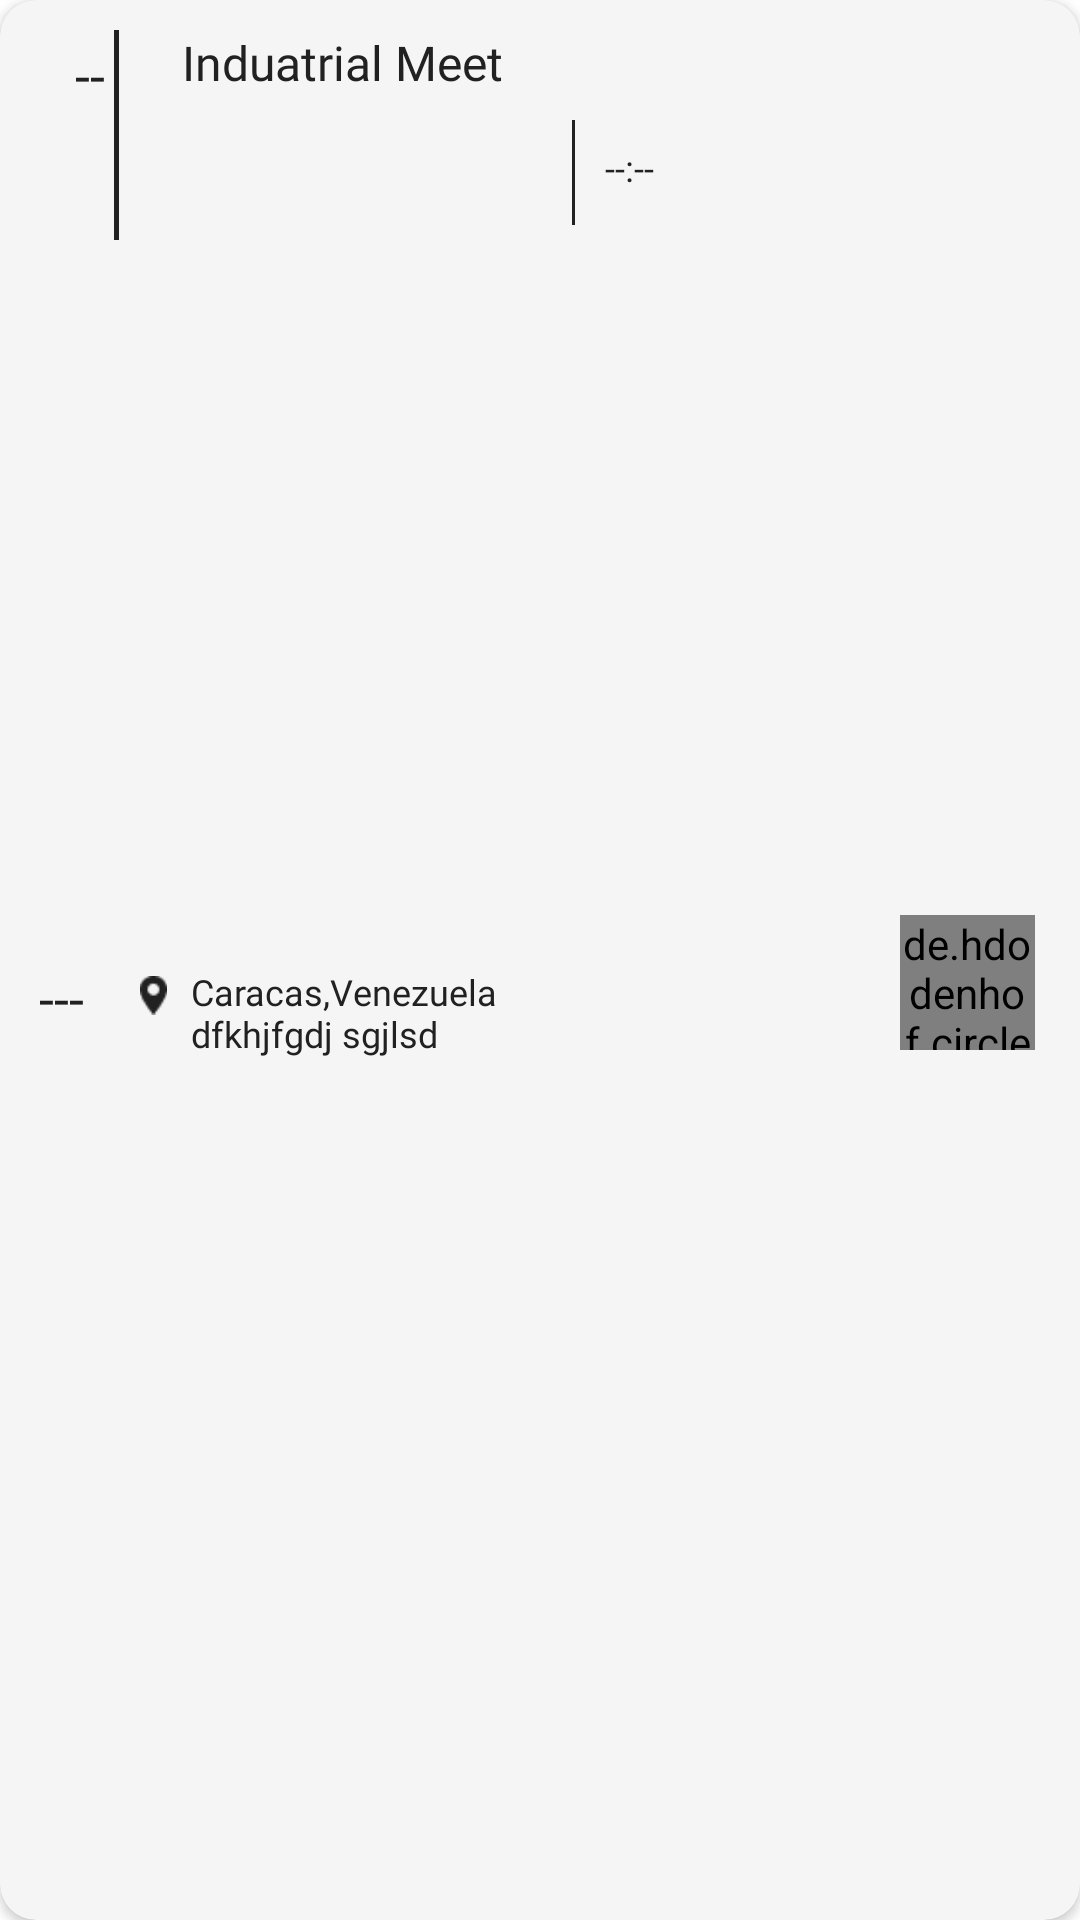

Point at icon controls on the screen. Image size 1080px x 1920px, points as (x=x, y=y).
location: (x=153, y=995)
